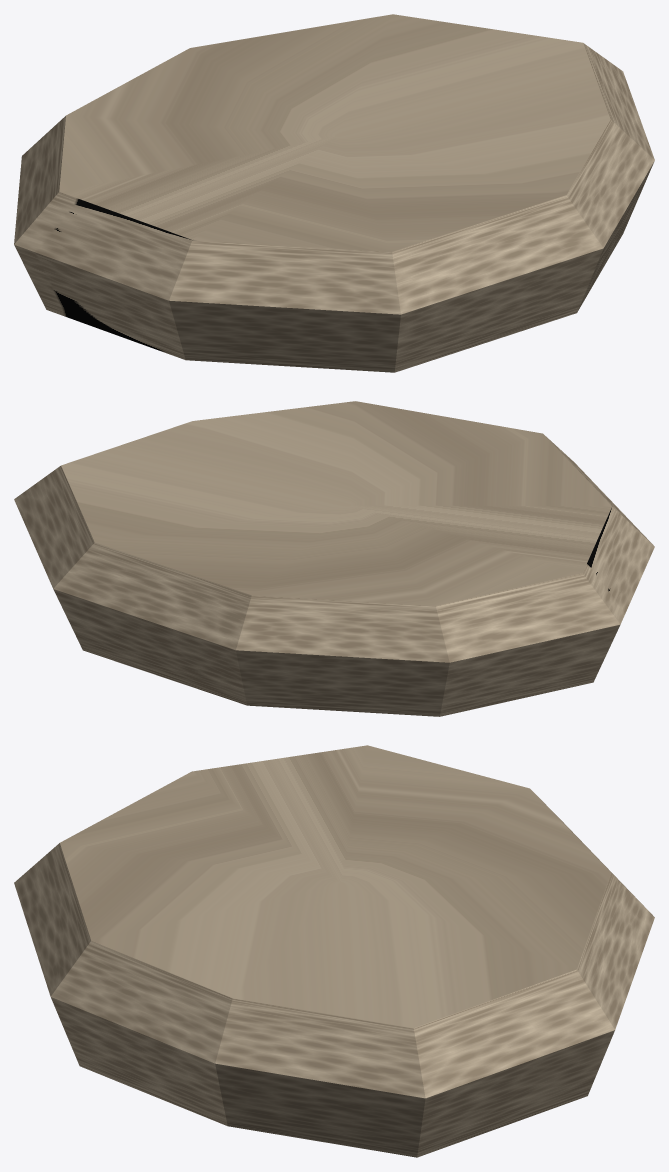
The picture shows the model from 3 angles, top to bottom: view 1: azimuth 30°, elevation 25°; view 2: azimuth 150°, elevation 25°; view 3: azimuth 270°, elevation 25°; orthographic projection. The views are drawn at different scales.
Parts seen in each view (by area): view 1: 판석_01; view 2: 판석_01; view 3: 판석_01.
Boxes of the visible parts, x1,y1,x2,y2 form: 판석_01: [14, 14, 654, 372]; 판석_01: [14, 401, 654, 716]; 판석_01: [14, 745, 654, 1157].
Bounding box in the file's own units: 787 × 137 × 648.
Materials: 1 (1 with a texture image).
